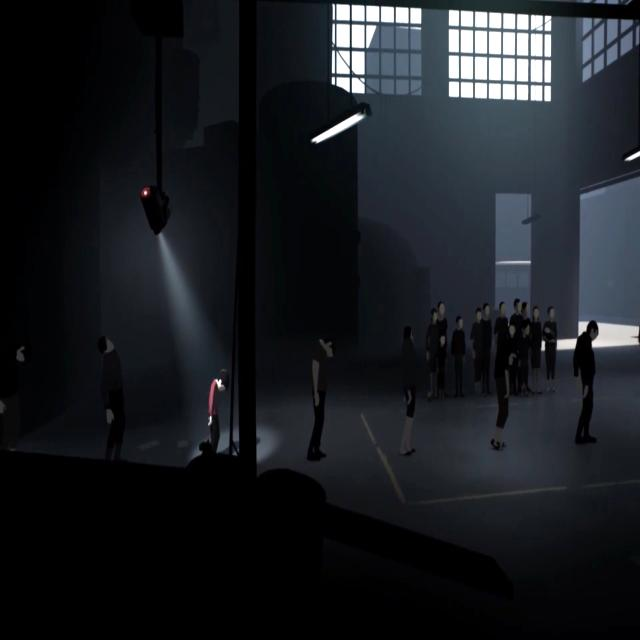boy: (206, 371, 227, 454)
human: (543, 304, 556, 393), (452, 316, 466, 398), (425, 310, 438, 398), (470, 305, 482, 400), (530, 305, 542, 394), (482, 303, 492, 398), (507, 320, 519, 396), (518, 322, 530, 396), (494, 303, 507, 350), (438, 334, 447, 399), (437, 300, 448, 332), (509, 298, 520, 320)
zombie: (308, 334, 335, 459), (1, 340, 29, 452), (572, 322, 597, 444), (101, 336, 125, 462), (488, 348, 514, 450), (402, 328, 420, 458)
